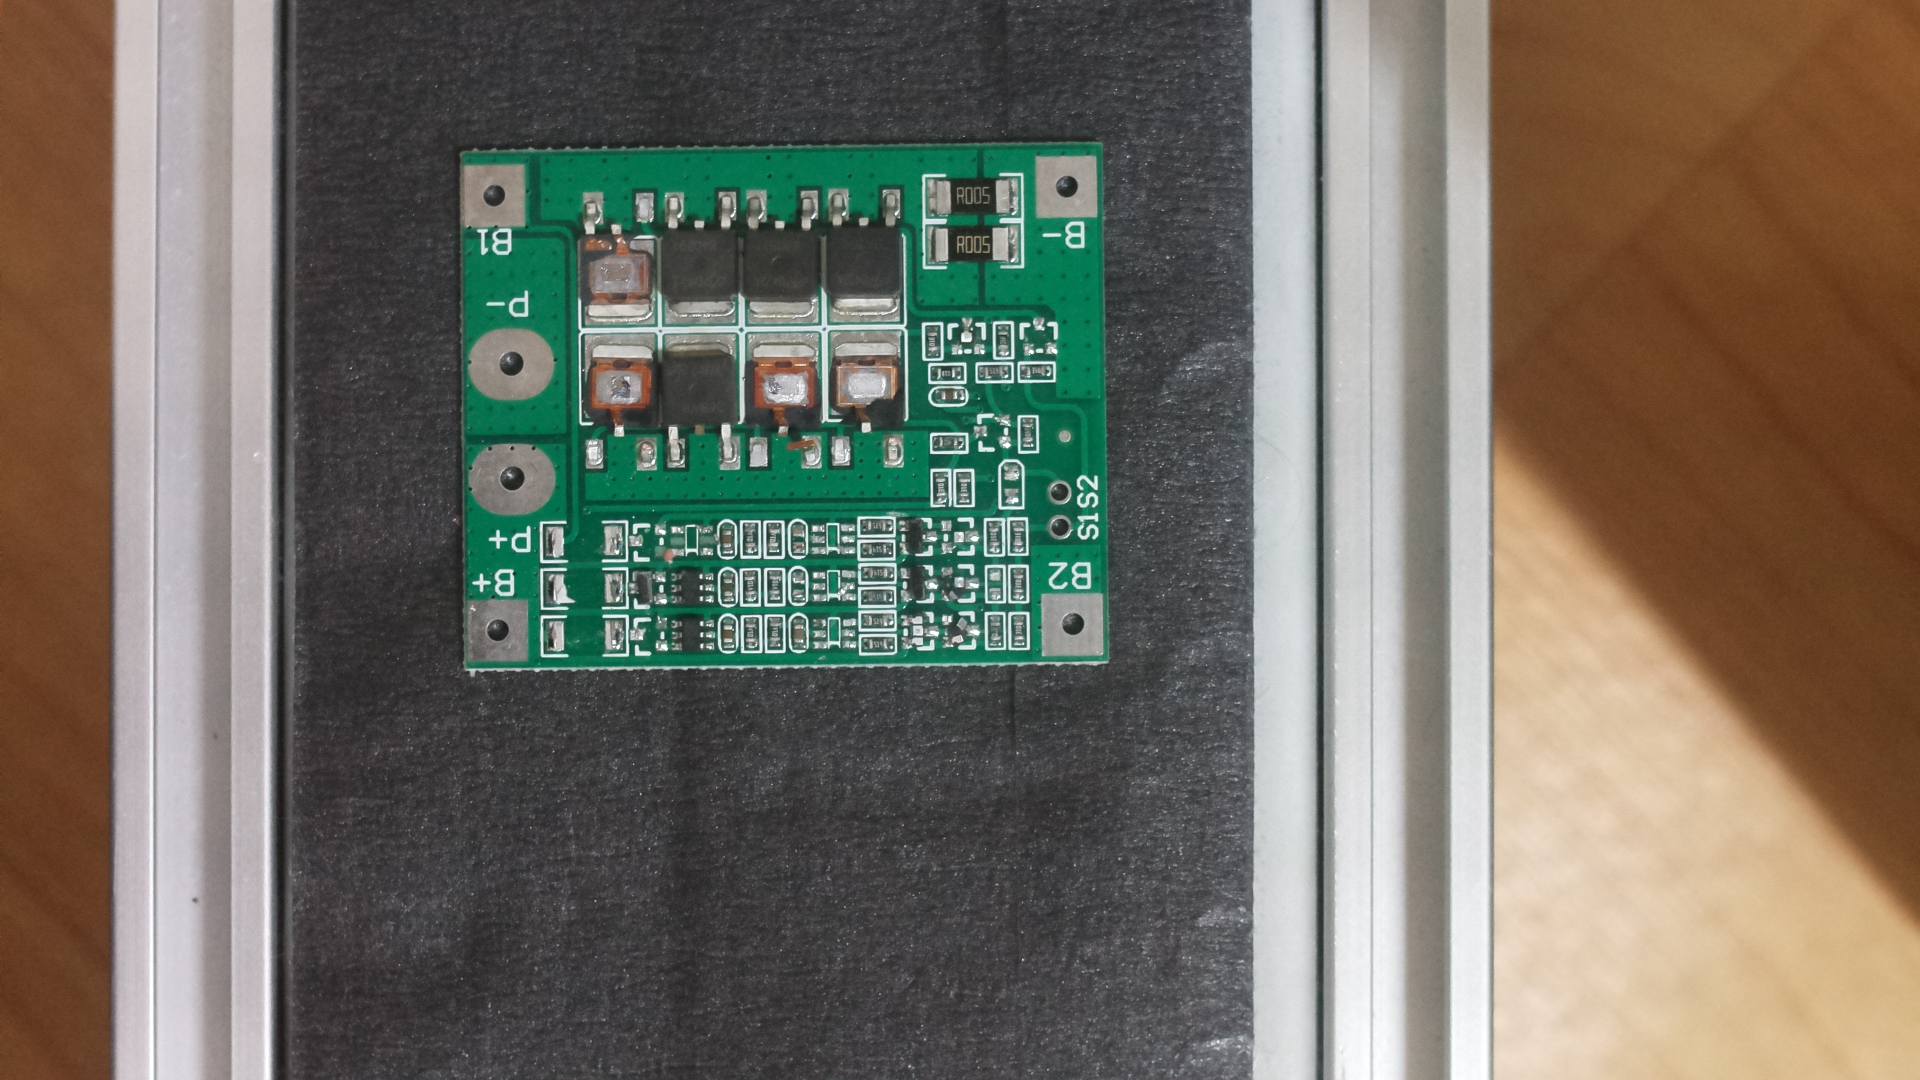C_Missing_part: (438, 124, 1142, 691)
